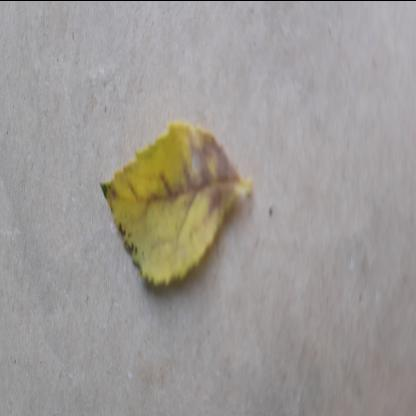black-spot: (95, 119, 254, 296)
